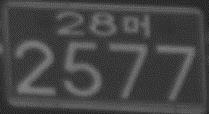2: (15, 38, 58, 97), (55, 9, 85, 36)
5: (62, 40, 103, 98)
7: (108, 42, 150, 100), (155, 43, 196, 102)
8: (89, 9, 116, 37)
머: (121, 13, 150, 38)
